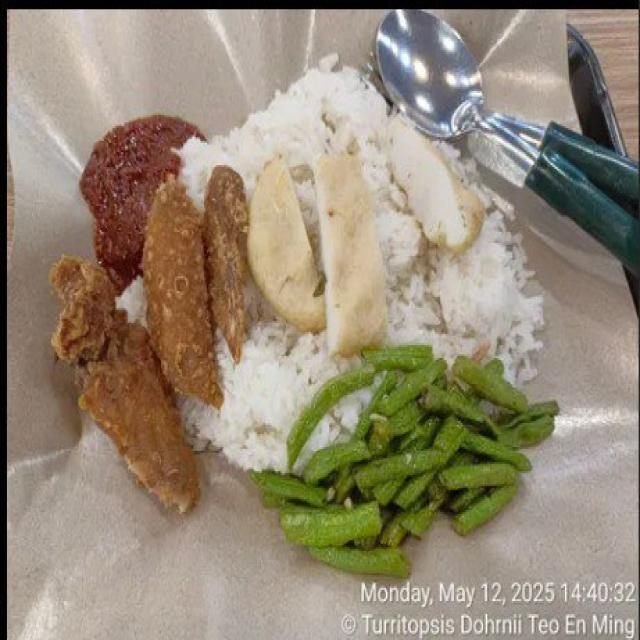Chicken: (51, 167, 249, 508)
Fish: (249, 152, 386, 354), (390, 121, 483, 252)
Green veg: (254, 345, 558, 575)
Rice: (179, 56, 543, 382), (180, 282, 350, 469), (293, 390, 369, 471), (119, 280, 143, 319)
